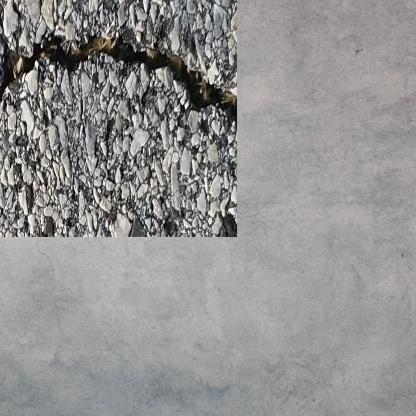Cracks: (0, 30, 219, 124)
